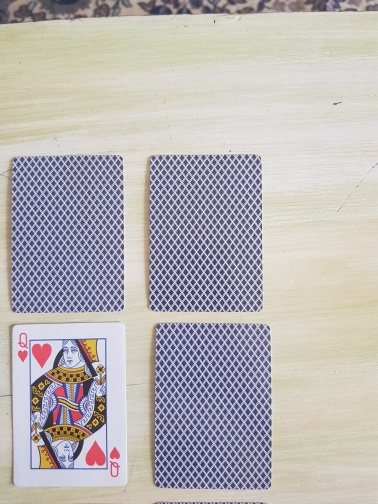queen: (9, 321, 129, 488)
